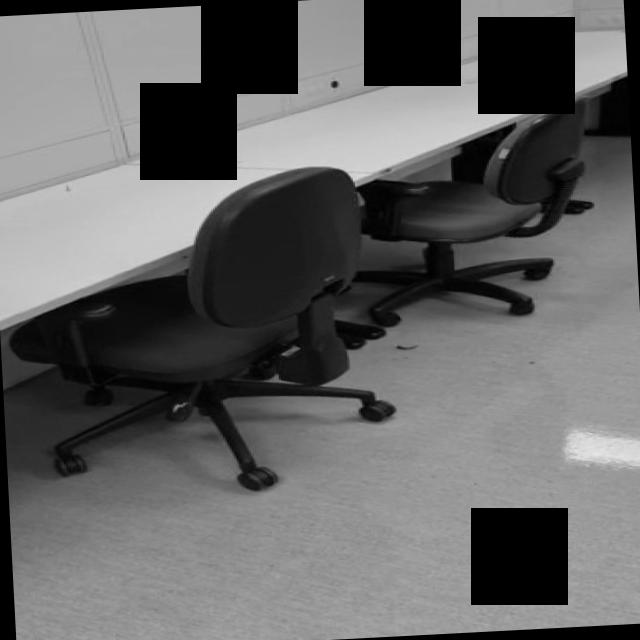cadeira-azul: (4, 162, 400, 502)
